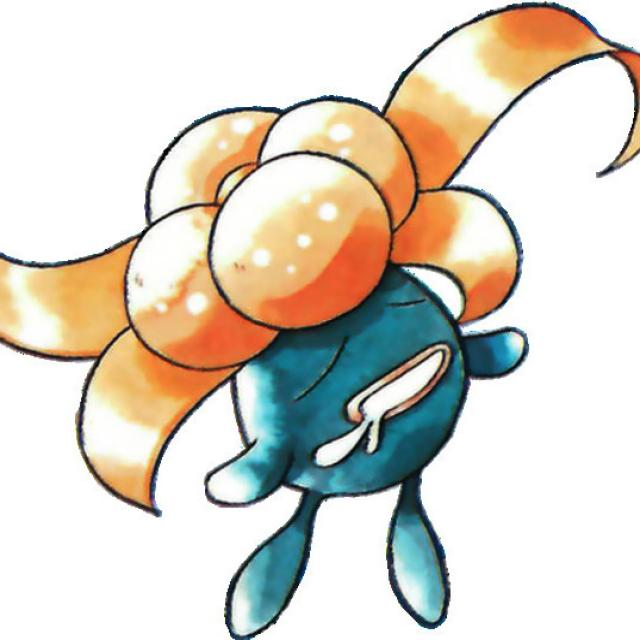Gloom: (106, 70, 526, 582)
